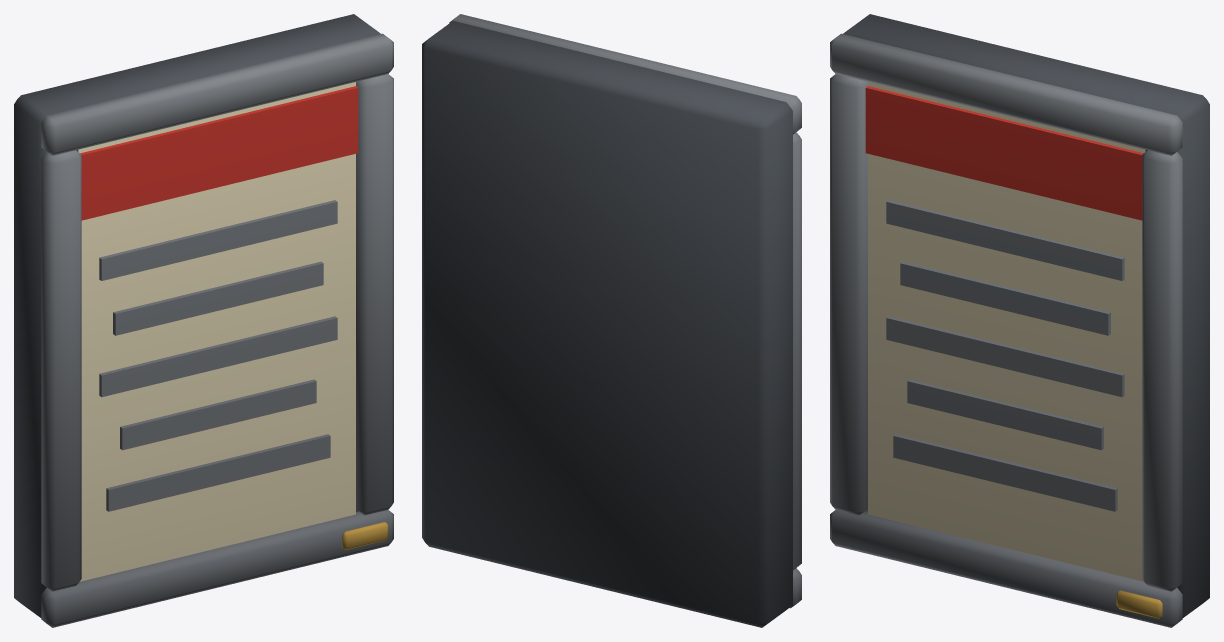
The model's file is SM_Outdoor_Menu_Case_01.glb.
The picture shows the model from 3 angles, left to right: view 1: azimuth 30°, elevation 25°; view 2: azimuth 150°, elevation 25°; view 3: azimuth 330°, elevation 25°; orthographic projection.
Visible parts, largest first — view 1: SM_Outdoor_Menu_Case_01; view 2: SM_Outdoor_Menu_Case_01; view 3: SM_Outdoor_Menu_Case_01.
Part boxes in pixels (x1=…): SM_Outdoor_Menu_Case_01: x1=14, y1=14, x2=393, y2=627; SM_Outdoor_Menu_Case_01: x1=422, y1=14, x2=801, y2=627; SM_Outdoor_Menu_Case_01: x1=830, y1=14, x2=1209, y2=627.
Size of the model in its own units: 0.5 by 0.7 by 0.108.
Materials: 1 (1 with a texture image).
